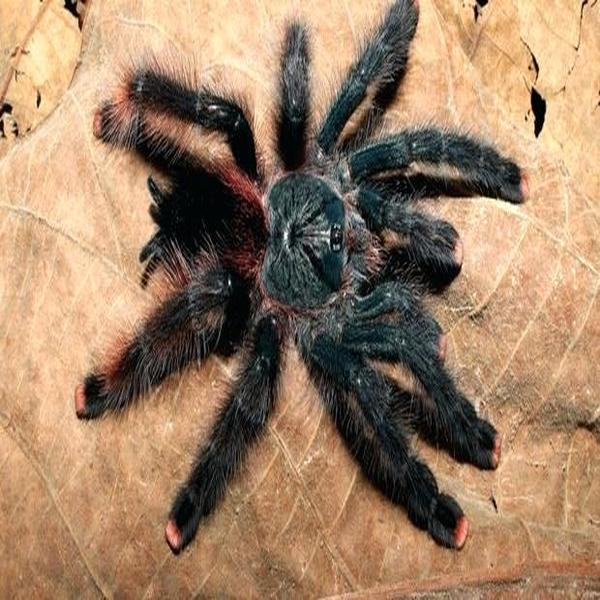Tarantula Spider: (109, 15, 502, 546)
